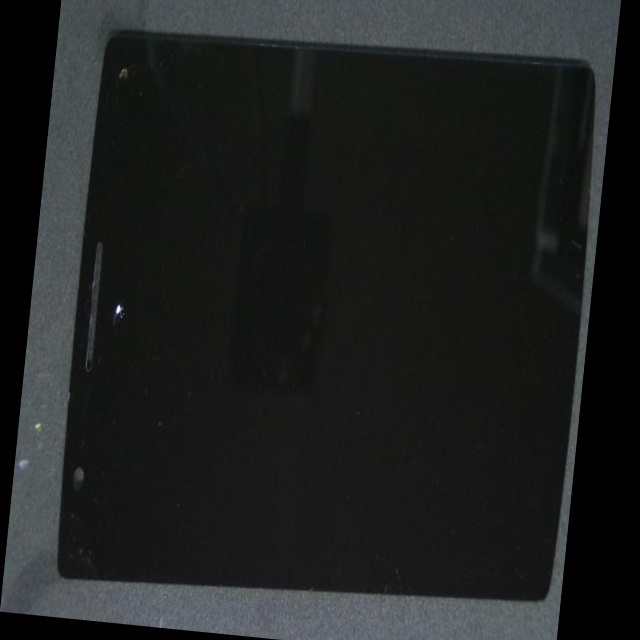stain: (31, 162, 178, 547)
